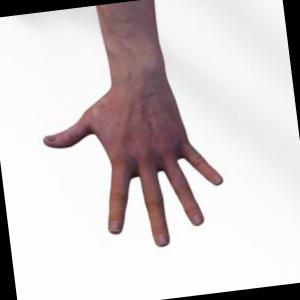paper: (44, 0, 223, 247)
